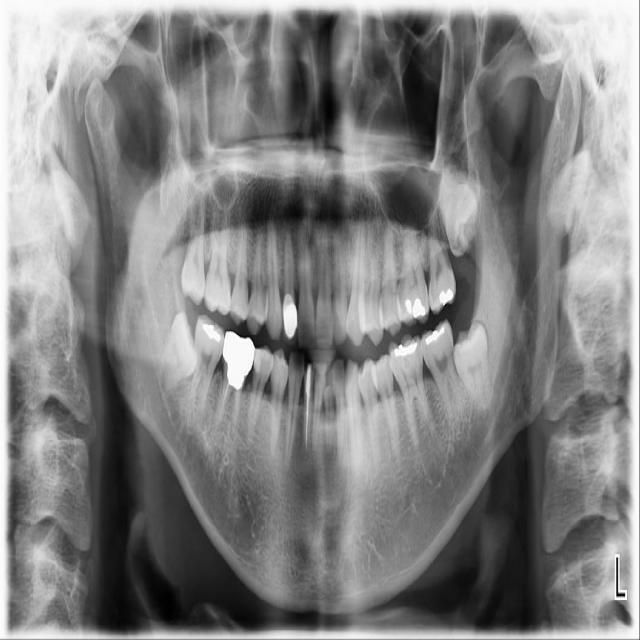52: (387, 331, 426, 388), (217, 330, 259, 377), (395, 272, 430, 328), (421, 318, 454, 376), (192, 313, 227, 362), (427, 263, 458, 314), (280, 292, 299, 345), (252, 345, 275, 380), (303, 362, 315, 398), (403, 356, 410, 369)
73: (214, 359, 249, 439), (302, 394, 312, 455), (600, 532, 612, 550)
BioHorizons Implant: (419, 192, 459, 315)
BioLife Implant: (436, 164, 482, 257)
Biomet 3i Implant: (449, 321, 496, 423)
Blue Sky Bio Implant: (417, 318, 463, 424)
Caries: (179, 200, 206, 307)
Implant: (188, 314, 227, 416)
Keystone Dental Implant: (161, 310, 199, 393)
